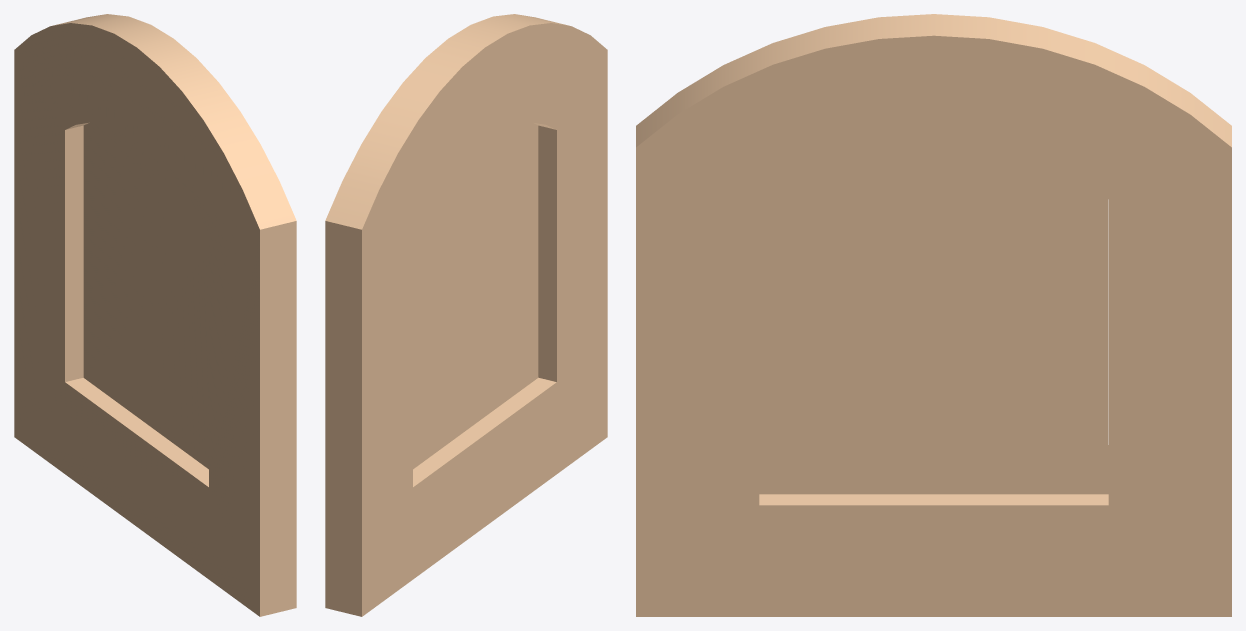
File: gate.fbx
The picture shows the model from 3 angles, left to right: view 1: azimuth 30°, elevation 25°; view 2: azimuth 150°, elevation 25°; view 3: azimuth 270°, elevation 25°; orthographic projection. The views are drawn at different scales.
Visible parts, largest first — view 1: gate; view 2: gate; view 3: gate.
Boxes of the visible parts, box(x1,y1,x2,y2) form: gate: box(14, 14, 296, 616); gate: box(325, 14, 607, 616); gate: box(636, 14, 1231, 616).
Bounding box in the file's own units: 7.77 × 96.88 × 90.
